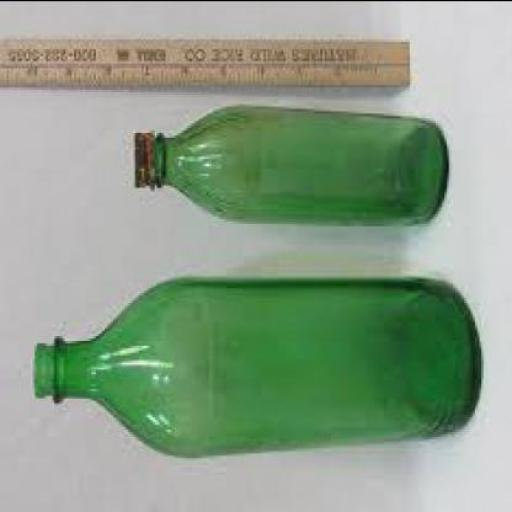glass: (32, 278, 480, 457), (151, 104, 446, 222)
metal: (133, 134, 148, 188)
